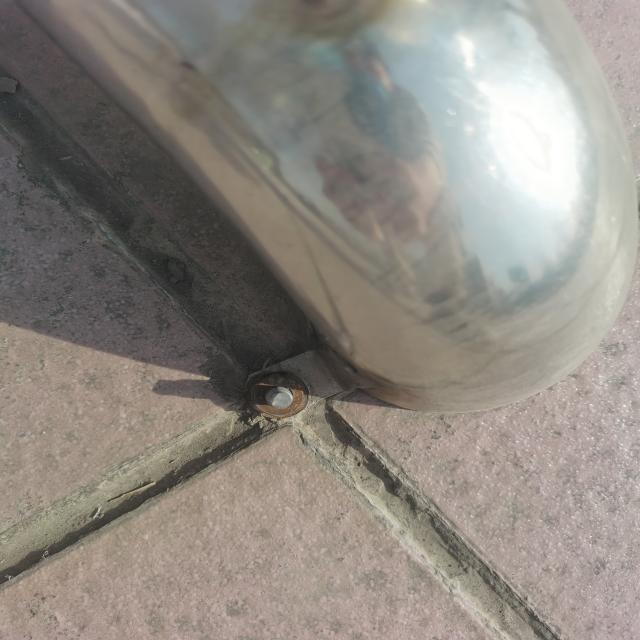bolt nut: (246, 371, 312, 420)
